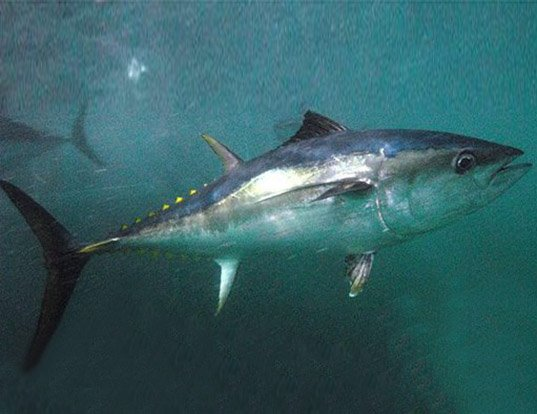Bluefina Tuna: (15, 108, 533, 347)
